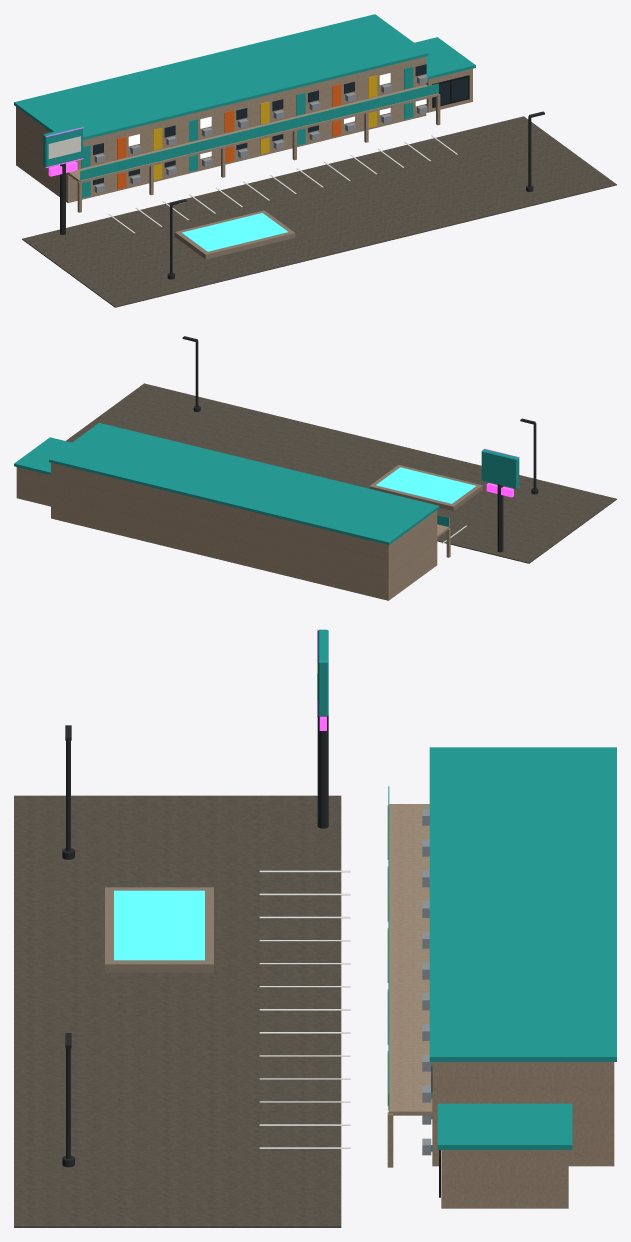
The model's file is OT_Motel_A.glb.
3 views of the same model, one above another, from view 1: azimuth 30°, elevation 25°; view 2: azimuth 150°, elevation 25°; view 3: azimuth 270°, elevation 25° (orthographic). The views are drawn at different scales.
Parts seen in each view (by area): view 1: OT_Motel_A_Pavement, OT_Motel_A_MotelTeal__1fa6a0, OT_Motel_A_Stucco, OT_Motel_A_PoolWater__3fb8e0, OT_Motel_A_Glass__22303a, OT_Motel_A_SteelGrey__9aa0a6, OT_Motel_A_MDoor0__1fa6a0, OT_Motel_A_Tile, OT_Motel_A_MDoor2__e8b81e, OT_Motel_A_MDoor1__f26b1d, OT_Motel_A_PaintWhite__f0f0ee, OT_Motel_A_PoleDark__2a2c30.001 (+3 smaller); view 2: OT_Motel_A_Pavement, OT_Motel_A_Stucco, OT_Motel_A_MotelTeal__1fa6a0, OT_Motel_A_PoolWater__3fb8e0, OT_Motel_A_Tile, OT_Motel_A_PoleDark__2a2c30.001, OT_Motel_A_PoleDark__2a2c30; view 3: OT_Motel_A_Pavement, OT_Motel_A_MotelTeal__1fa6a0, OT_Motel_A_Stucco, OT_Motel_A_PoolWater__3fb8e0, OT_Motel_A_Tile, OT_Motel_A_PaintWhite__f0f0ee, OT_Motel_A_SteelGrey__9aa0a6, OT_Motel_A_PoleDark__2a2c30.001, OT_Motel_A_PoleDark__2a2c30.
Boxes of the visible parts, x1,y1,x2,y2 form: OT_Motel_A_Pavement: (22,116,616,307); OT_Motel_A_MotelTeal__1fa6a0: (14,14,475,180); OT_Motel_A_Stucco: (16,56,472,212); OT_Motel_A_PoolWater__3fb8e0: (182,213,287,251); OT_Motel_A_Glass__22303a: (93,64,468,184); OT_Motel_A_SteelGrey__9aa0a6: (94,75,427,192); OT_Motel_A_MDoor0__1fa6a0: (81,66,413,197); OT_Motel_A_Tile: (174,210,295,259); OT_Motel_A_MDoor2__e8b81e: (153,75,377,180); OT_Motel_A_MDoor1__f26b1d: (117,84,341,189); OT_Motel_A_PaintWhite__f0f0ee: (108,135,457,233); OT_Motel_A_PoleDark__2a2c30.001: (167,111,544,279); OT_Motel_A_Pavement: (66,383,616,563); OT_Motel_A_Stucco: (16,462,450,600); OT_Motel_A_MotelTeal__1fa6a0: (14,423,519,544); OT_Motel_A_PoolWater__3fb8e0: (376,467,475,503); OT_Motel_A_Tile: (369,465,482,510); OT_Motel_A_PoleDark__2a2c30.001: (182,336,538,494); OT_Motel_A_PoleDark__2a2c30: (497,484,503,552); OT_Motel_A_Pavement: (14,795,341,1227); OT_Motel_A_MotelTeal__1fa6a0: (317,629,616,1149); OT_Motel_A_Stucco: (387,804,614,1208); OT_Motel_A_PoolWater__3fb8e0: (114,890,204,960); OT_Motel_A_Tile: (105,887,213,972); OT_Motel_A_PaintWhite__f0f0ee: (259,870,350,1148); OT_Motel_A_SteelGrey__9aa0a6: (422,809,431,1155); OT_Motel_A_PoleDark__2a2c30.001: (62,725,74,1167); OT_Motel_A_PoleDark__2a2c30: (317,715,328,828).
Size of the model in its own units: 56 by 11.1 by 33.15.
19 materials, 3 textured.
